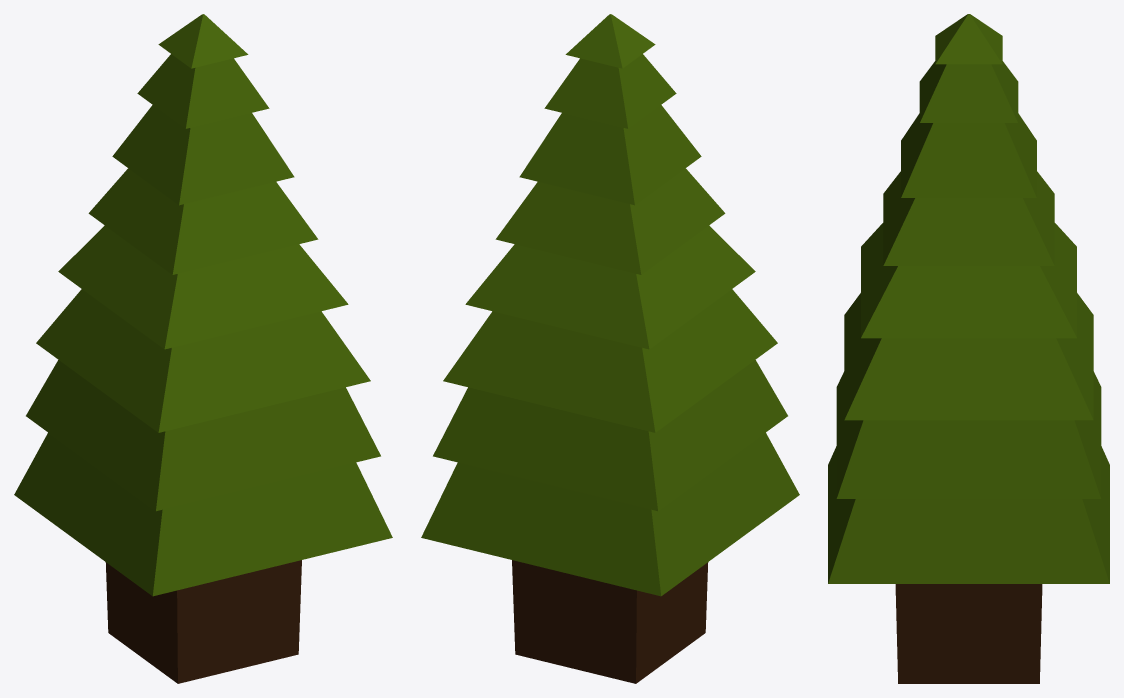
File: obj_tree5.fbx
3 views of the same model, side by side, from view 1: azimuth 30°, elevation 25°; view 2: azimuth 150°, elevation 25°; view 3: azimuth 270°, elevation 25° (orthographic).
Visible parts, largest first — view 1: Obj_tree5; view 2: Obj_tree5; view 3: Obj_tree5.
Boxes of the visible parts, box(x1,y1,x2,y2) form: Obj_tree5: box(14, 14, 392, 683); Obj_tree5: box(421, 14, 799, 683); Obj_tree5: box(828, 14, 1109, 683).
Bounding box in the file's own units: 398 × 996 × 398.
